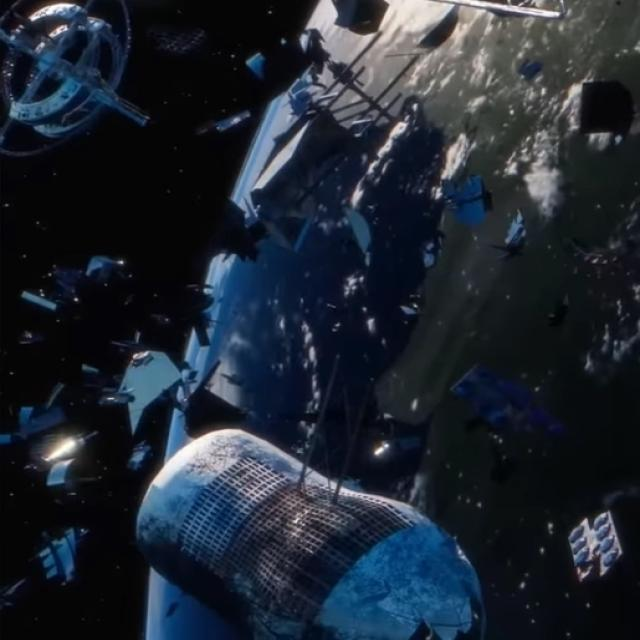large_debris: (117, 392, 504, 640), (213, 34, 503, 280), (3, 2, 167, 160), (73, 325, 213, 435), (0, 379, 100, 492), (553, 495, 634, 600), (21, 243, 125, 317), (24, 510, 89, 598)
